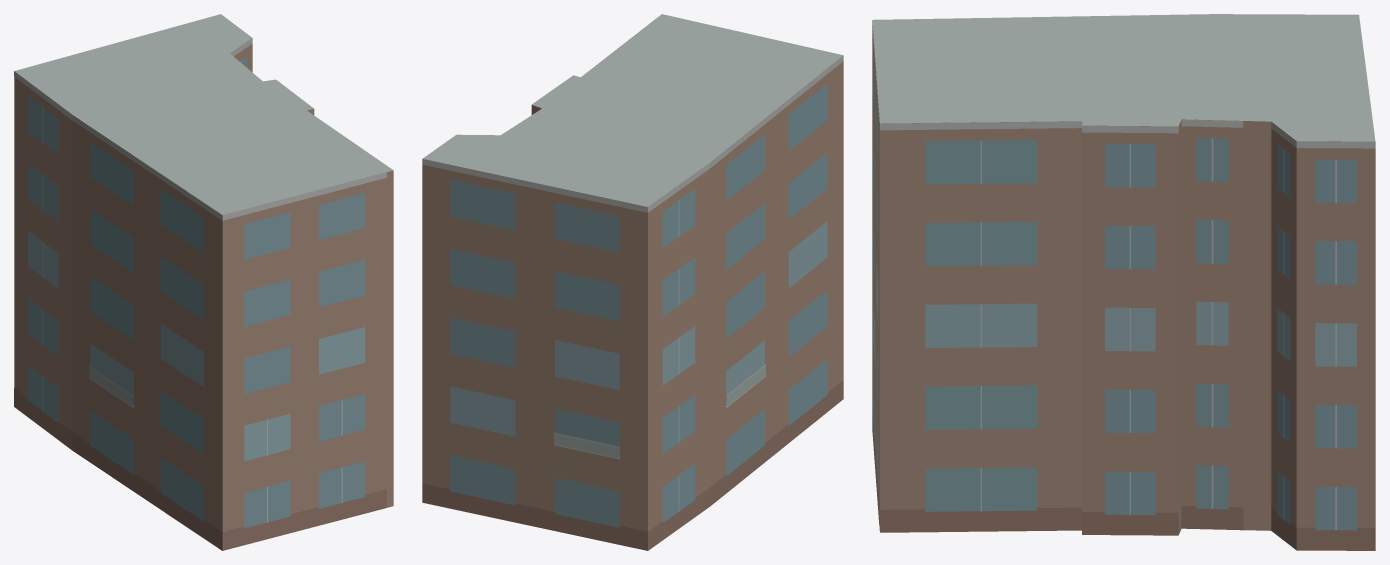
Rendered from survey-upis-32957411.glb.
3 views of the same model, side by side, from view 1: azimuth 30°, elevation 25°; view 2: azimuth 150°, elevation 25°; view 3: azimuth 270°, elevation 25° (orthographic). The views are drawn at different scales.
Visible parts, largest first — view 1: survey-upis-32957411.tmp; view 2: survey-upis-32957411.tmp; view 3: survey-upis-32957411.tmp.
Part boxes in pixels (x1,y1,x2,y2): survey-upis-32957411.tmp: (14, 14, 393, 550); survey-upis-32957411.tmp: (422, 14, 843, 550); survey-upis-32957411.tmp: (872, 14, 1375, 550).
Size of the model in its own units: 9.68 by 14.45 by 16.11.
